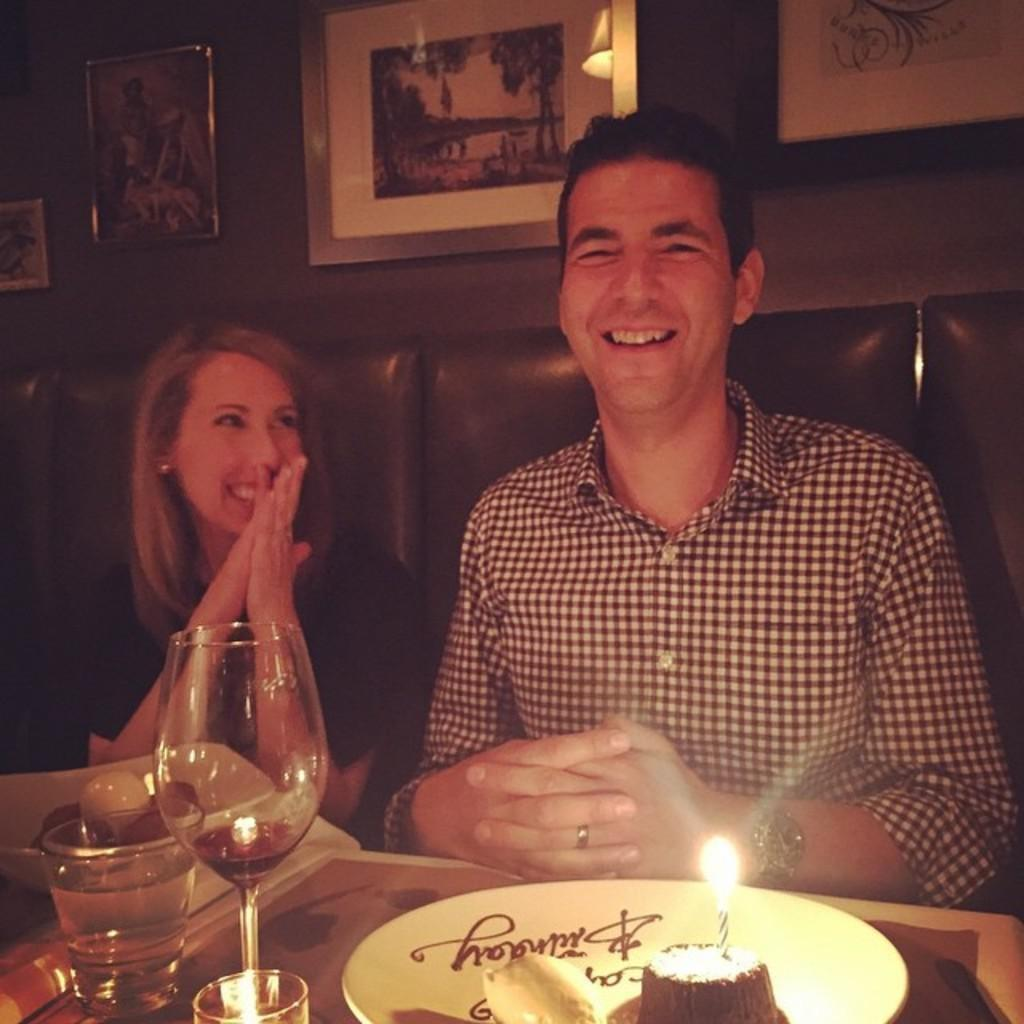glass-normal: (37, 786, 199, 1014)
glass-wine: (152, 618, 327, 1023)
